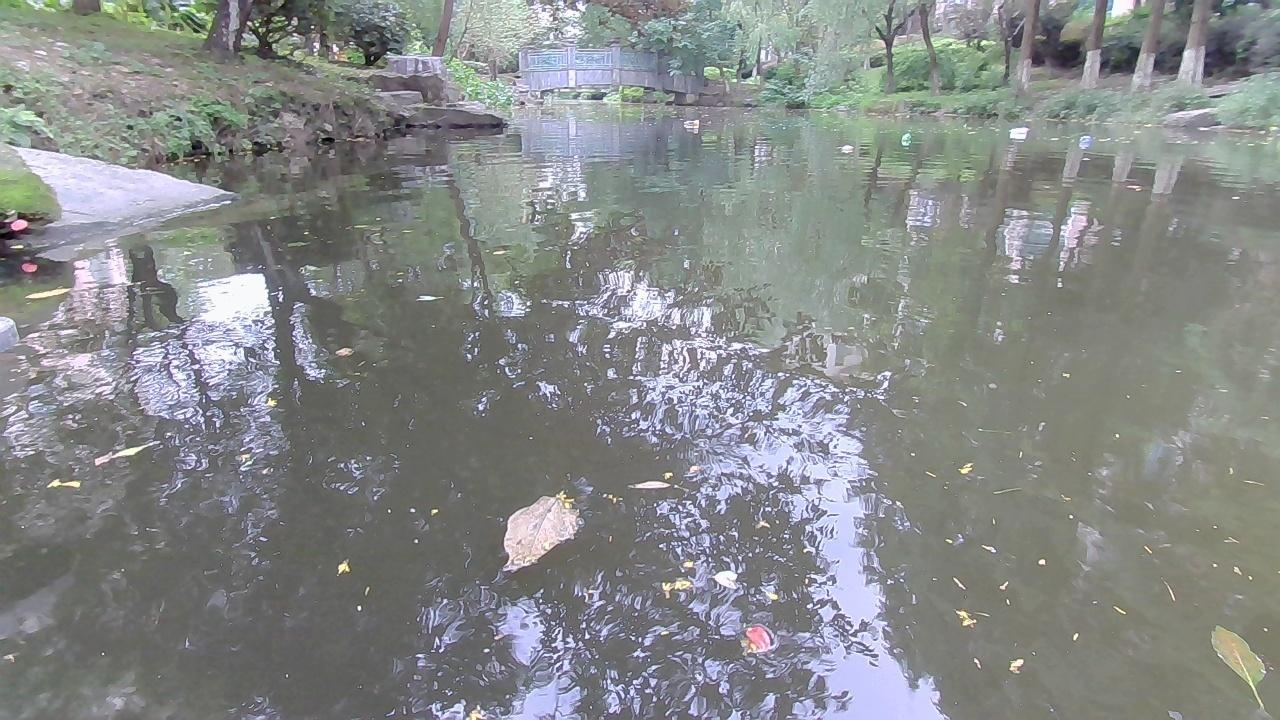bottle: (1007, 125, 1028, 134), (1077, 134, 1094, 145), (900, 131, 911, 145), (680, 119, 698, 127)
